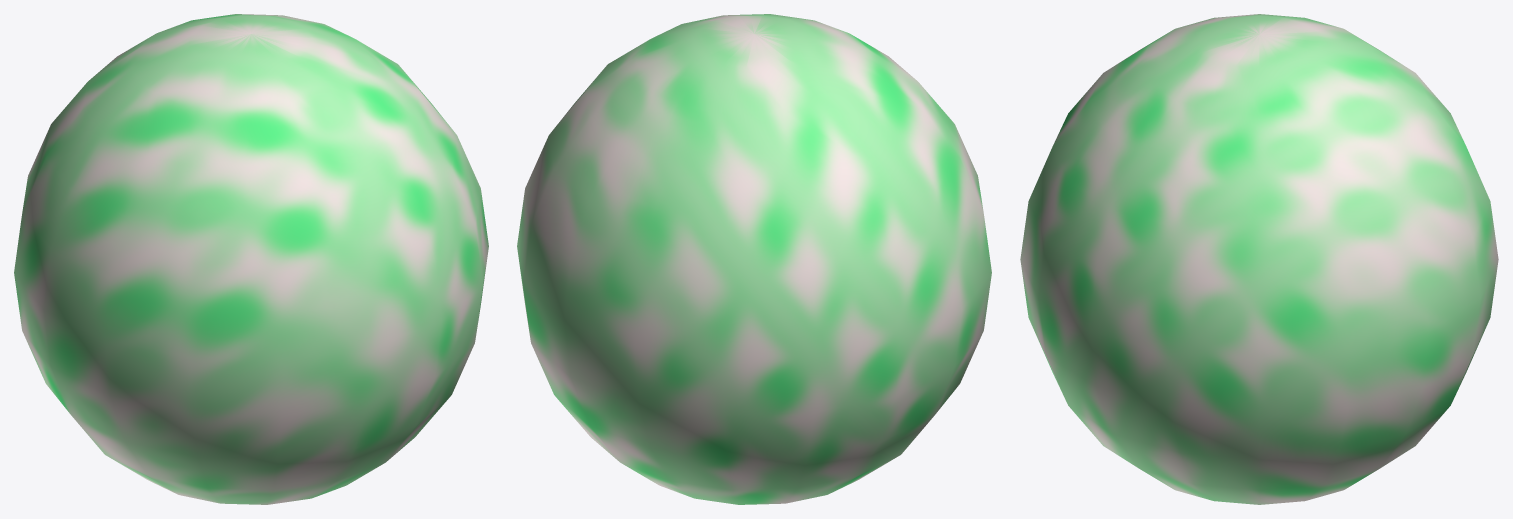
File: egg_midori.glb
The picture shows the model from 3 angles, left to right: view 1: azimuth 30°, elevation 25°; view 2: azimuth 150°, elevation 25°; view 3: azimuth 270°, elevation 25°; orthographic projection.
Visible parts, largest first — view 1: Egg_Midori_body_0; view 2: Egg_Midori_body_0; view 3: Egg_Midori_body_0.
Part boxes in pixels (box(x1,y1,x2,y2)): Egg_Midori_body_0: box(14, 14, 488, 504); Egg_Midori_body_0: box(517, 14, 991, 504); Egg_Midori_body_0: box(1020, 14, 1498, 504).
Bounding box in the file's own units: 1.98 × 2.06 × 1.98.
1 material, 1 textured.
